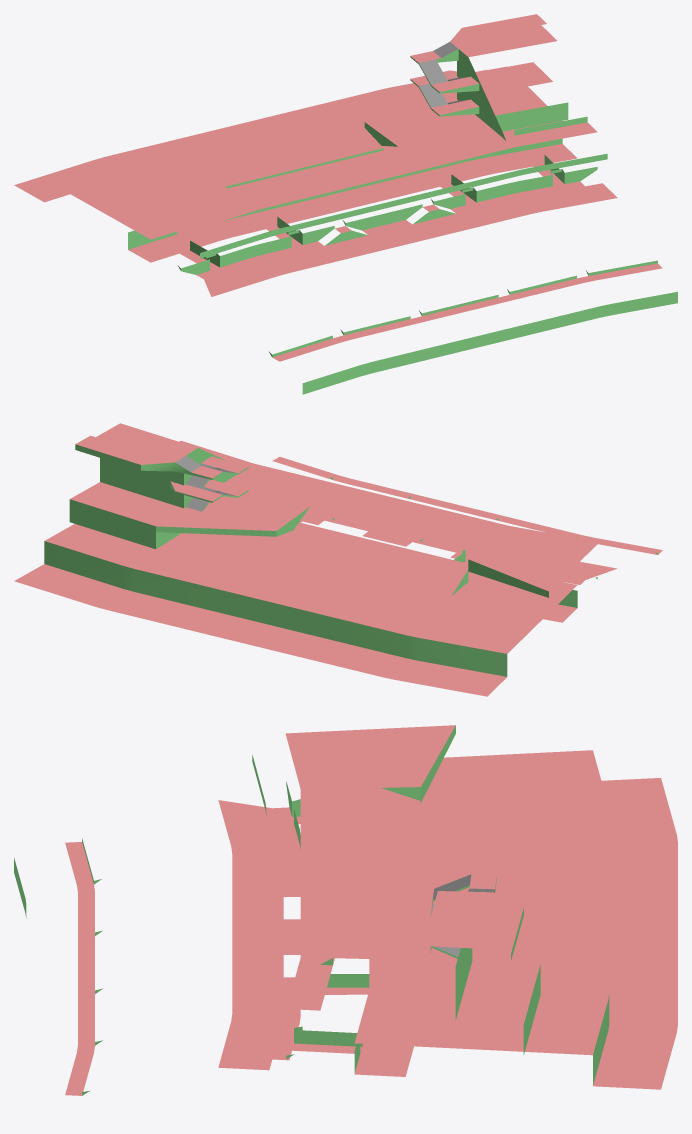
3 views of the same model, one above another, from view 1: azimuth 30°, elevation 25°; view 2: azimuth 150°, elevation 25°; view 3: azimuth 270°, elevation 25° (orthographic). The views are drawn at different scales.
Parts seen in each view (by area): view 1: Base_01; view 2: Base_01; view 3: Base_01.
Boxes of the visible parts, x1,y1,x2,y2 form: Base_01: [14, 14, 677, 394]; Base_01: [14, 423, 662, 696]; Base_01: [14, 725, 677, 1095].
Bounding box in the file's own units: 110 × 32 × 99.14.
